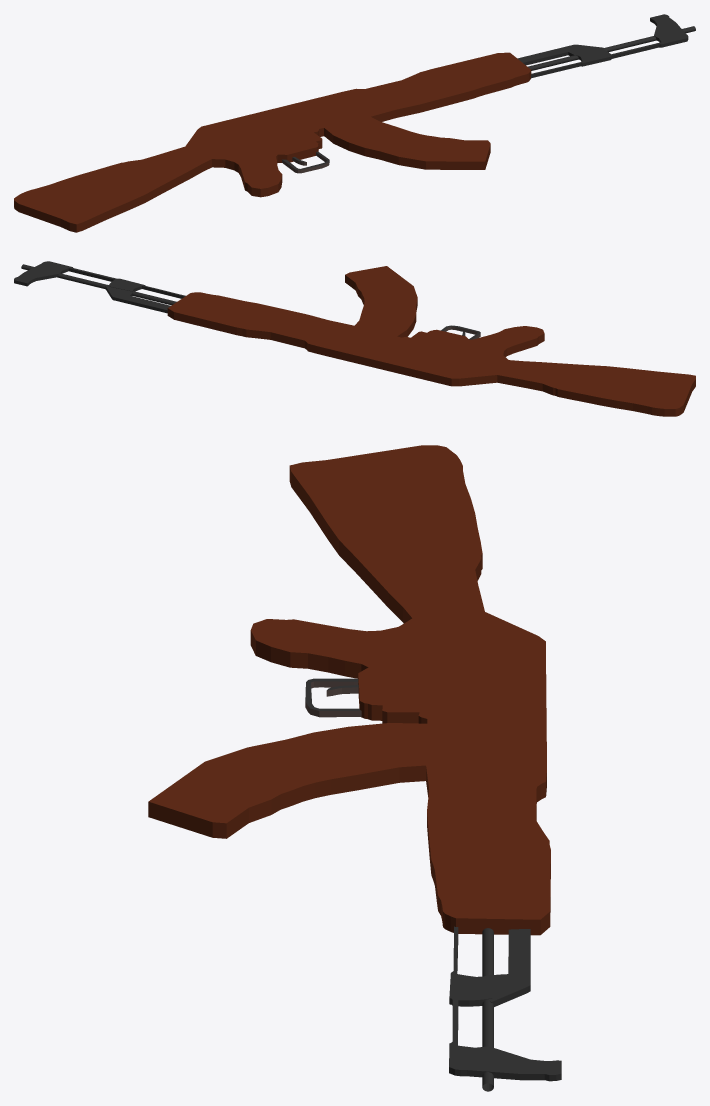
Rendered from weapon.glb.
3 renders of one model, top to bottom at view 1: azimuth 30°, elevation 25°; view 2: azimuth 150°, elevation 25°; view 3: azimuth 270°, elevation 25°, orthographic. The views are drawn at different scales.
Parts seen in each view (by area): view 1: gun-body, Plane.001, Plane, Cylinder, trigger; view 2: gun-body, Plane.001, Plane, Cylinder; view 3: gun-body, Plane.001, Plane, Cylinder, trigger.
Part boxes in pixels (box(x1,y1,x2,y2)): gun-body: box(14, 52, 531, 232); Plane.001: box(531, 14, 688, 78); Plane: box(517, 44, 603, 65); Cylinder: box(528, 26, 695, 70); trigger: box(282, 151, 329, 173); gun-body: box(167, 266, 695, 416); Plane.001: box(14, 261, 185, 298); Plane: box(105, 285, 170, 313); Cylinder: box(21, 264, 176, 305); gun-body: box(148, 445, 550, 935); Plane.001: box(449, 926, 561, 1081); Plane: box(489, 929, 530, 1006); Cylinder: box(482, 928, 493, 1091); trigger: box(305, 678, 361, 717).
Bounding box in the file's own units: 4.34 × 0.0561 × 1.2.
Materials: 1 (1 with a texture image).
